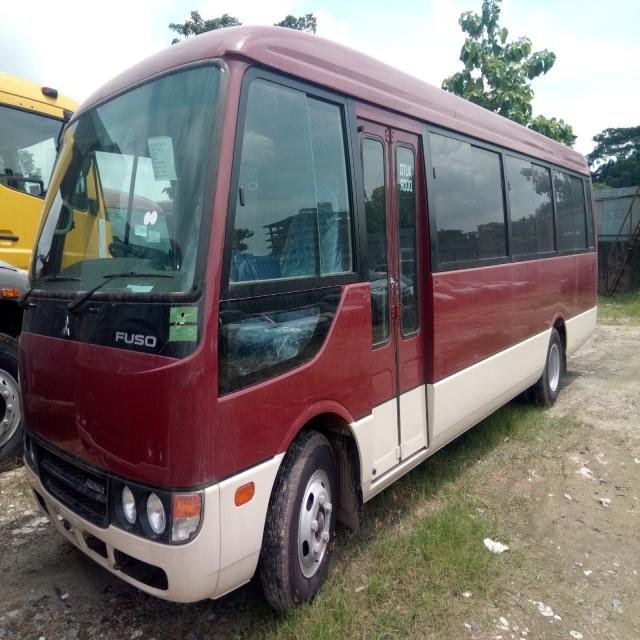bus: (12, 18, 609, 627)
